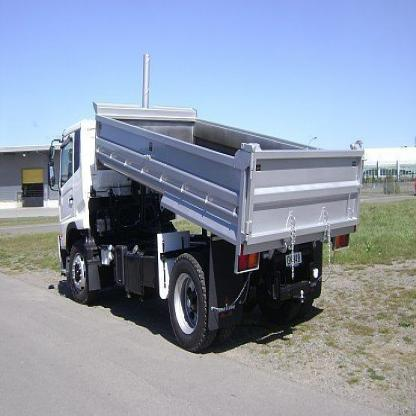dump_truck: (42, 86, 367, 360)
